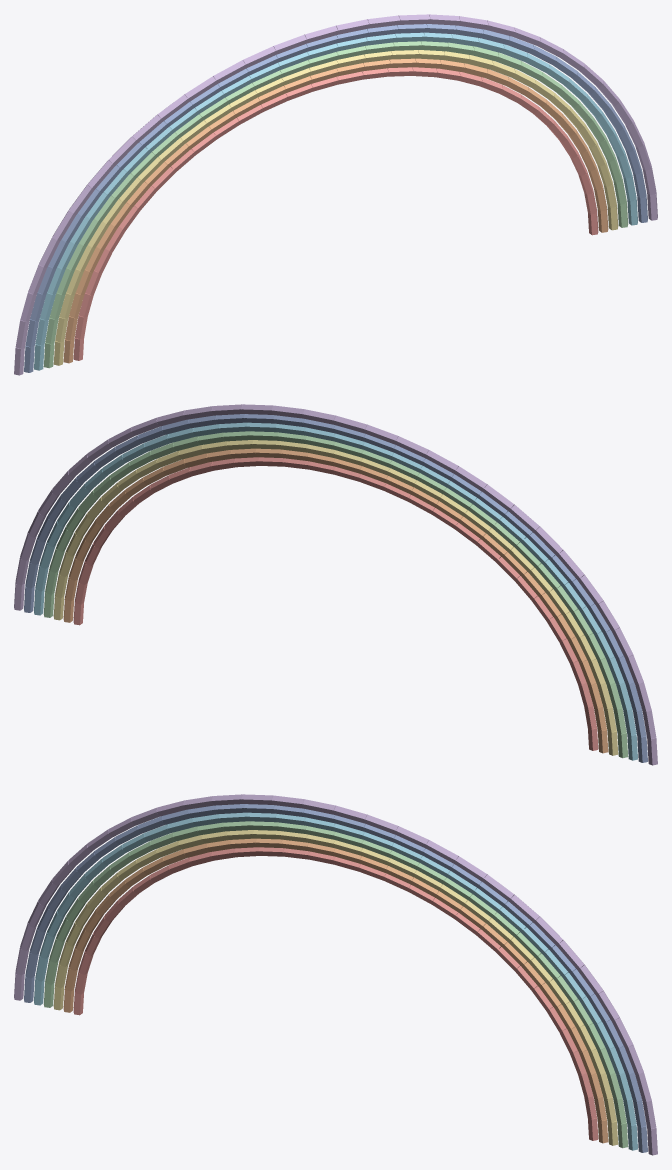
File: arcoiris.glb
3 renders of one model, top to bottom at view 1: azimuth 30°, elevation 25°; view 2: azimuth 150°, elevation 25°; view 3: azimuth 330°, elevation 25°, orthographic.
Parts seen in each view (by area): view 1: arcoiris; view 2: arcoiris; view 3: arcoiris.
Part boxes in pixels (x1,y1,x2,y2): arcoiris: (14,14,657,375); arcoiris: (14,404,657,765); arcoiris: (14,794,657,1155).
Size of the model in its own units: 32.44 by 13.03 by 0.4185.
